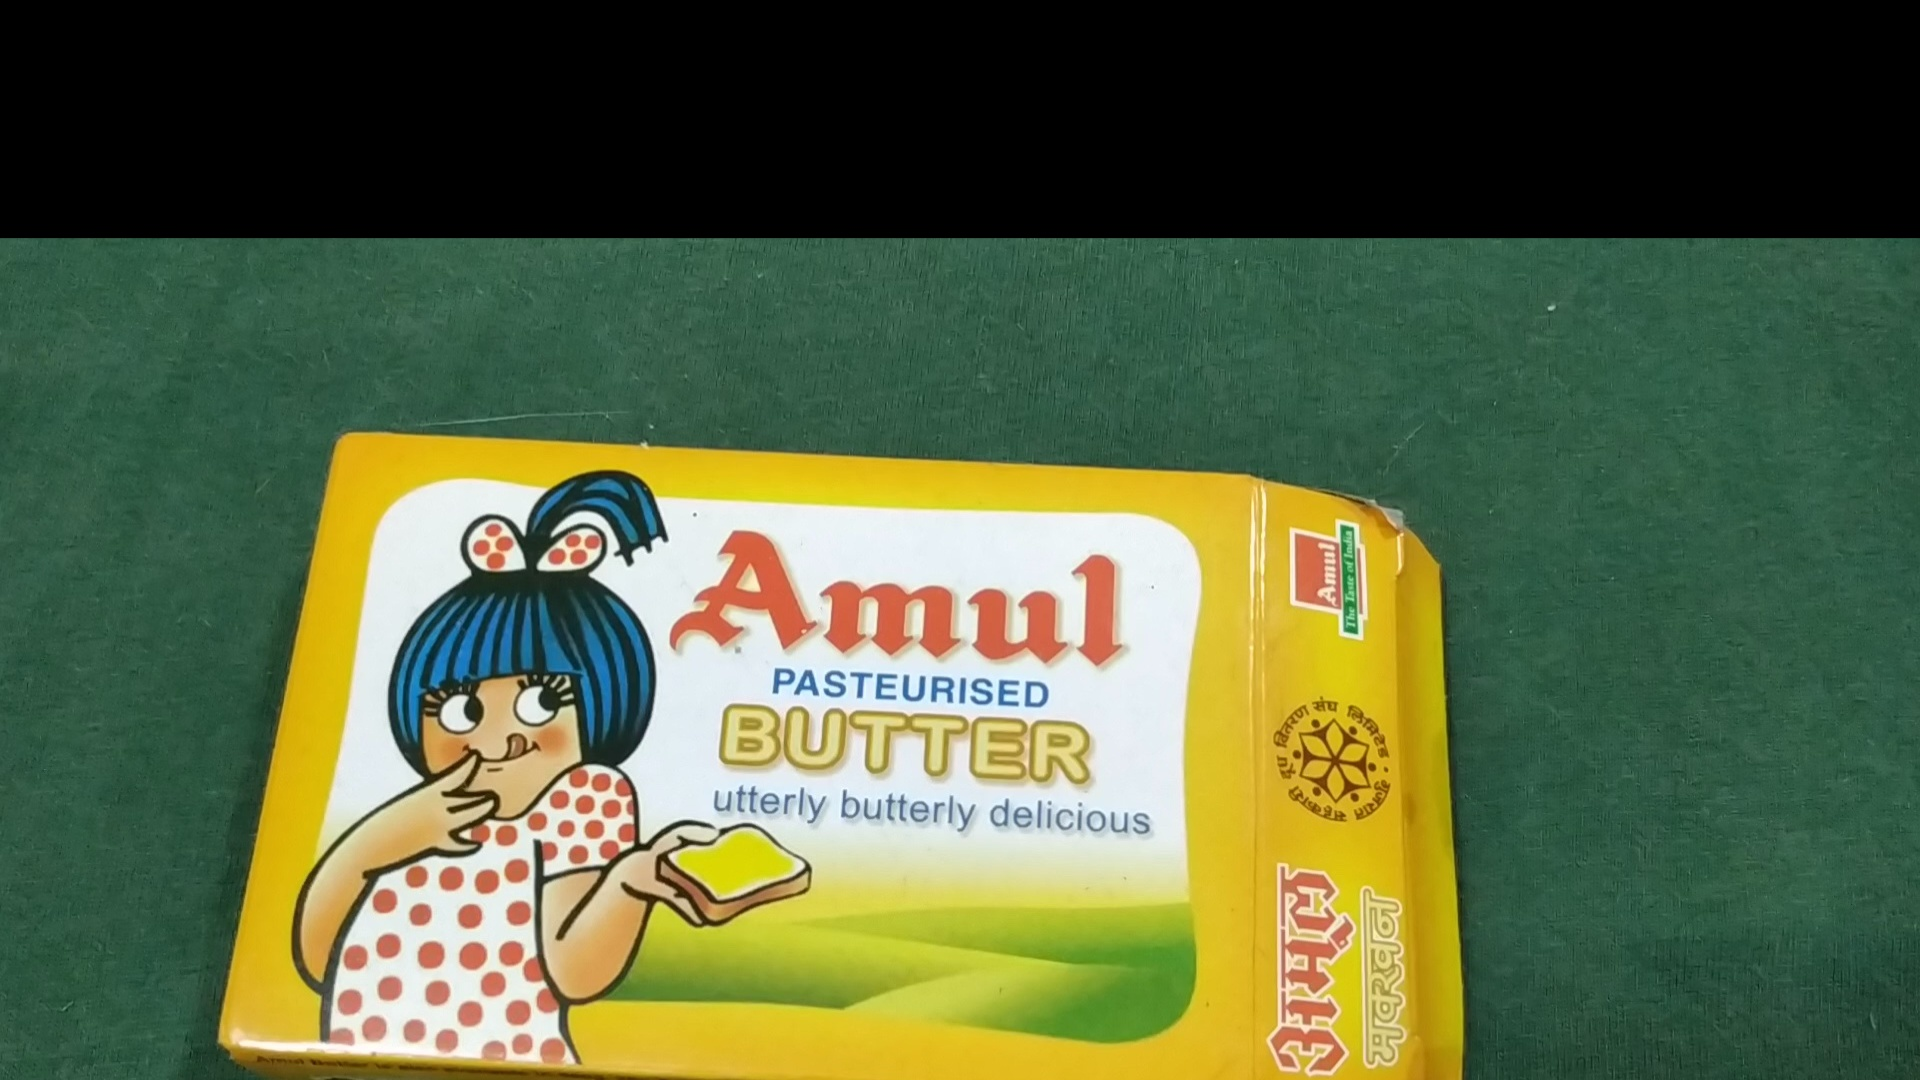amul_butter: (210, 433, 1457, 1080)
